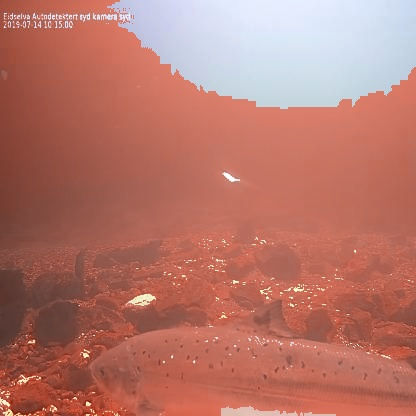salmon: (84, 292, 415, 416)
